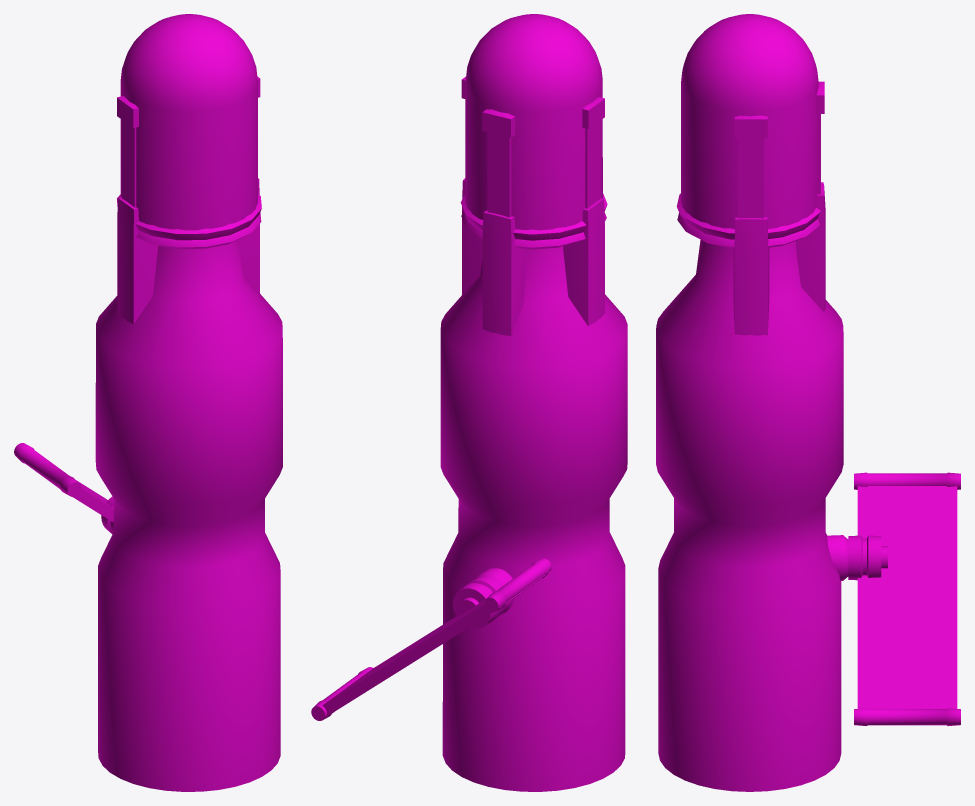
The model's file is Ship_ForceField.fbx.
3 views of the same model, side by side, from view 1: azimuth 30°, elevation 25°; view 2: azimuth 150°, elevation 25°; view 3: azimuth 270°, elevation 25° (orthographic).
Parts seen in each view (by area): view 1: Fuselage_Lo.001; view 2: Fuselage_Lo.001; view 3: Fuselage_Lo.001.
Part boxes in pixels (x1,y1,x2,y2): Fuselage_Lo.001: (14,14,282,791); Fuselage_Lo.001: (311,14,627,791); Fuselage_Lo.001: (656,14,960,791).
Size of the model in its own units: 1591 by 5588 by 2107.
